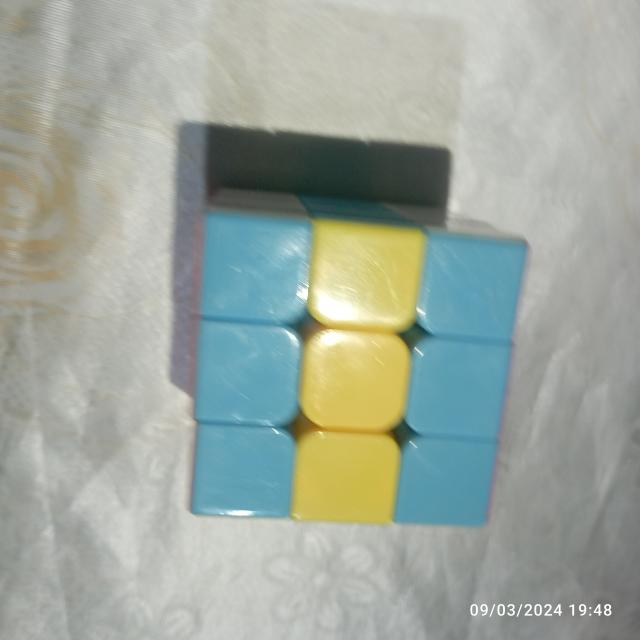Rub: (188, 185, 530, 534)
